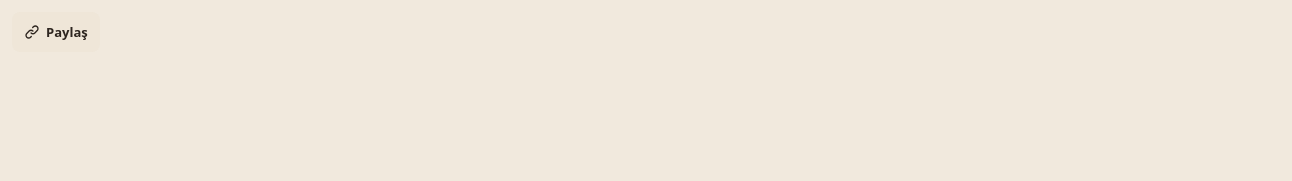
Scenario: share button › the copy button in the panel tries again
Click the button with class "share-btn" at (56, 32), box [12,12,100,52]
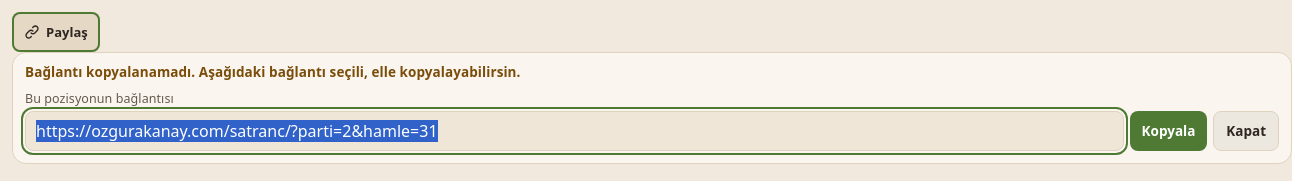
Now the message "Bağlantı kopyalanamadı. Aşağıdaki bağlantı seçili, elle kopyalayabilirsin." is shown, box [25,63,520,81]
Click the button "Kopyala" at (1168, 131), box [1130,111,1207,151]
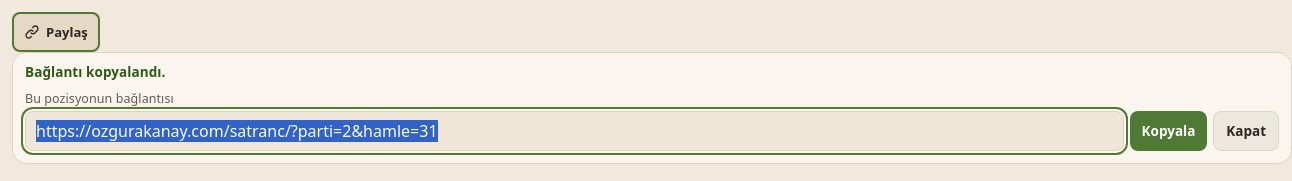
Now the message "Bağlantı kopyalandı." is shown, box [25,63,165,81]
